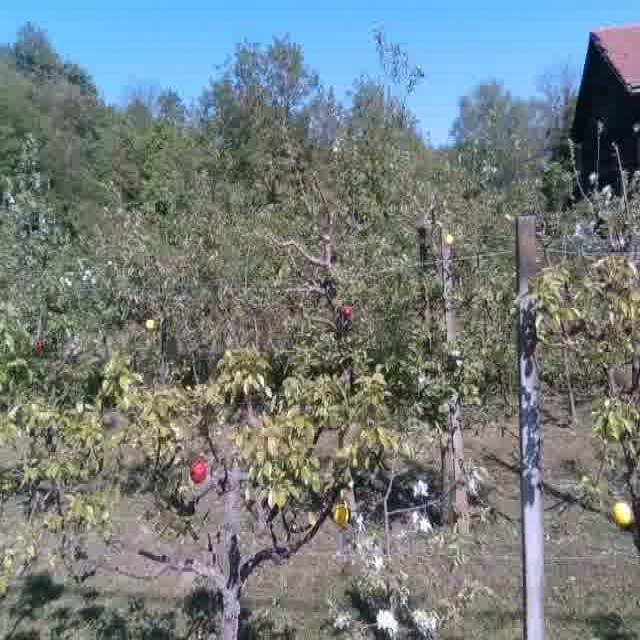red: (188, 453, 210, 486), (32, 335, 46, 356), (340, 300, 354, 320)
yellow: (609, 498, 637, 531), (334, 502, 352, 524), (445, 232, 458, 246), (145, 319, 159, 329)
